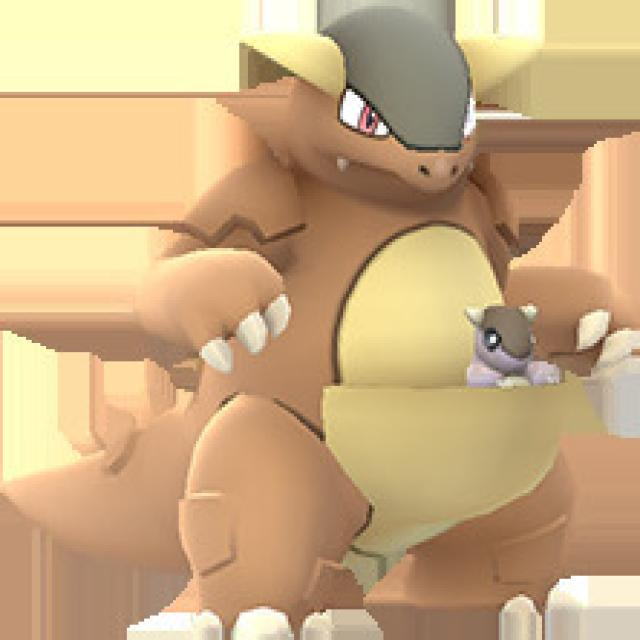Kangaskhan: (140, 30, 580, 640)
